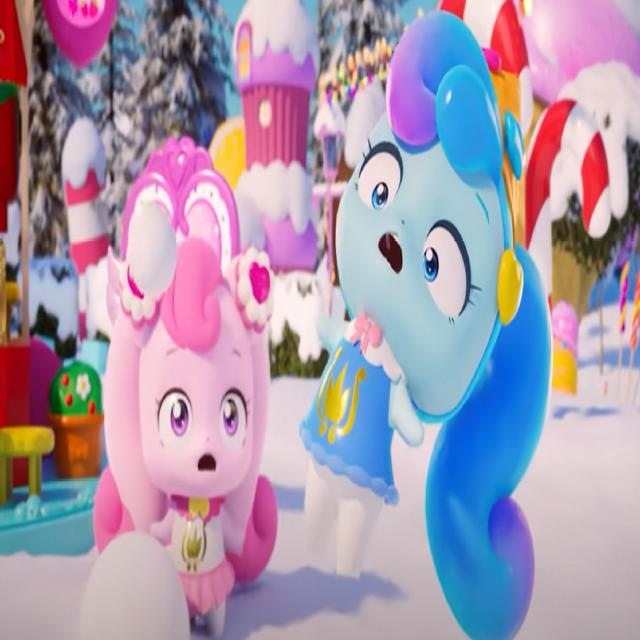Hachuping: (92, 201, 277, 638)
Shashaping: (298, 8, 552, 640)
